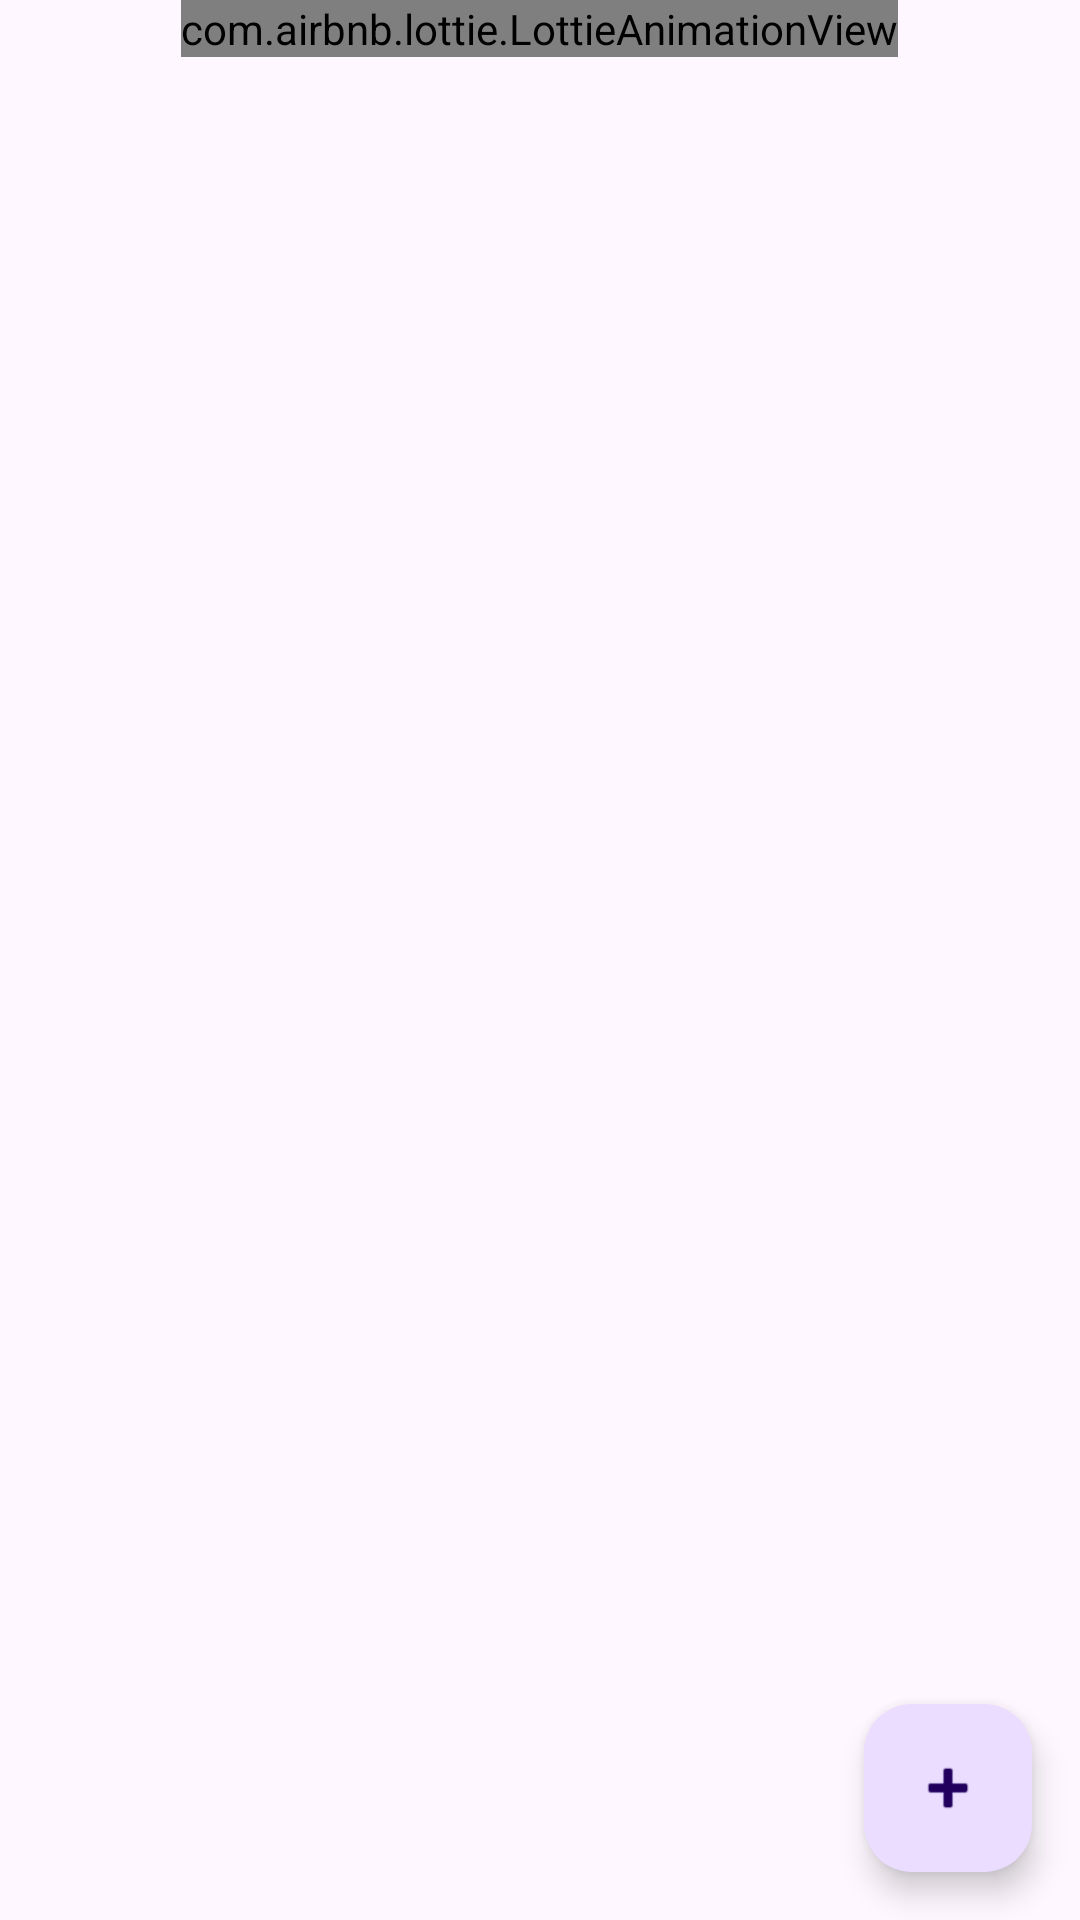

Icons on this 1080px x 1920px Android screen, each with the point to tap as [x,y]:
Add Student: [948,1788]
